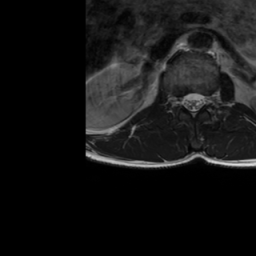CCS_normal: (189, 87, 196, 122)
LFS_normal: (204, 89, 211, 112)
LLS_normal: (196, 88, 204, 113)
RFS_normal: (176, 90, 183, 114)
RLS_normal: (182, 90, 189, 112)
